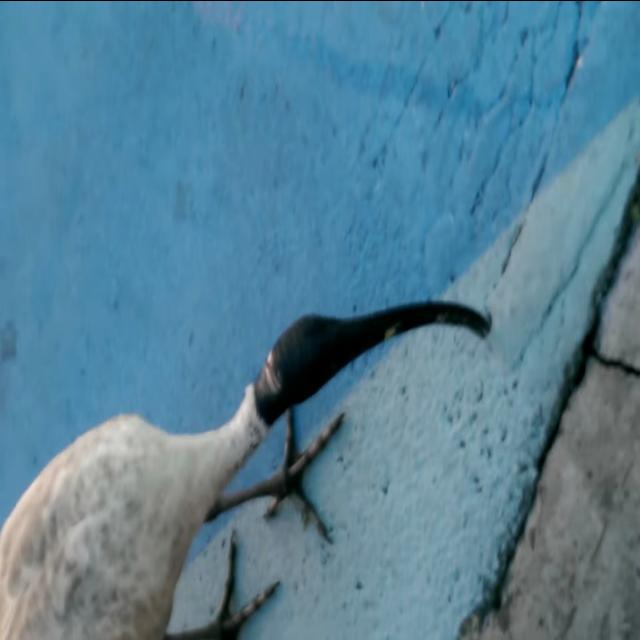Birds-Ibis: (1, 290, 497, 640)
